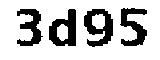3: (14, 5, 44, 49)
5: (120, 1, 154, 52)
9: (84, 7, 118, 53)
d: (48, 7, 80, 49)
